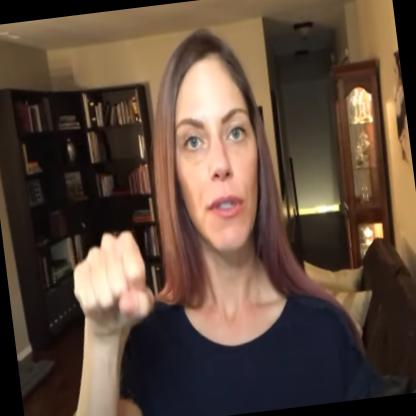yes: (48, 203, 167, 356)
